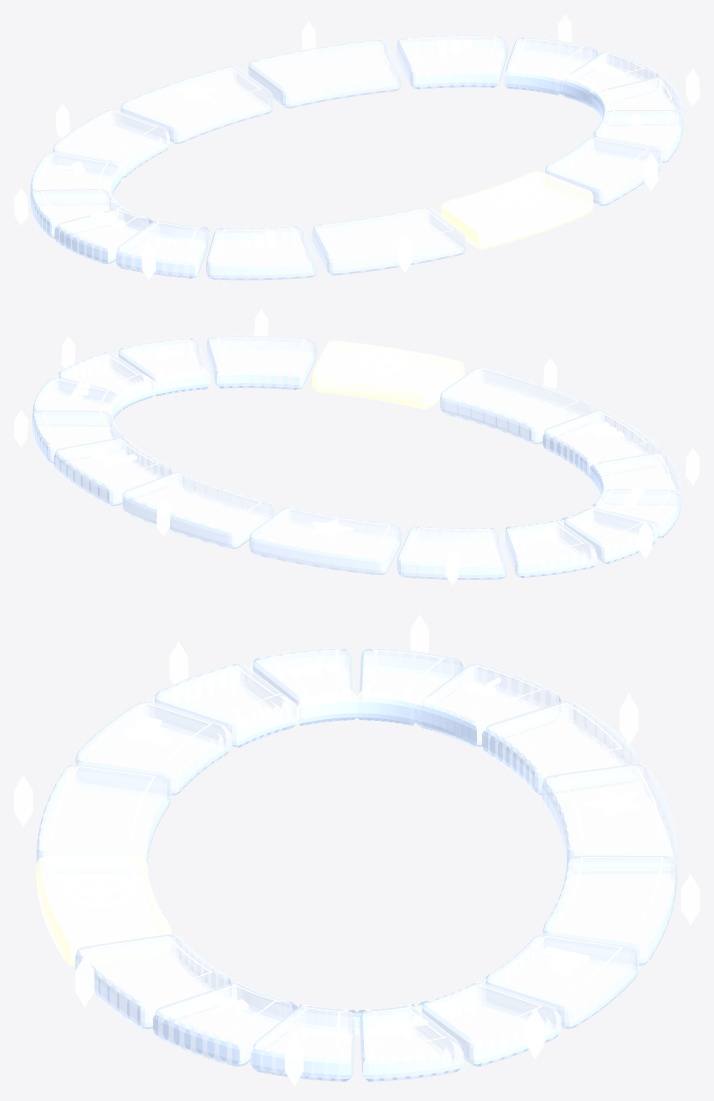
Rendered from sky-track.glb.
3 renders of one model, top to bottom at view 1: azimuth 30°, elevation 25°; view 2: azimuth 150°, elevation 25°; view 3: azimuth 270°, elevation 25°, orthographic. The views are drawn at different scales.
Visible parts, largest first — view 1: slab_07, slab_15, slab_08, slab_00, slab_14, slab_06, slab_09, slab_01, slab_05, slab_13, slab_02, slab_10 (+6 smaller); view 2: slab_15, slab_08, slab_07, slab_00, slab_01, slab_09, slab_06, slab_14, slab_10, slab_05, slab_02, slab_13 (+8 smaller); view 3: slab_07, slab_08, slab_00, slab_15, slab_09, slab_01, slab_14, slab_06, slab_13, slab_02, slab_10, slab_05 (+12 smaller).
Part boxes in pixels (x1=…): slab_07: x1=248, y1=39, x2=401, y2=108; slab_15: x1=312, y1=206, x2=465, y2=275; slab_08: x1=120, y1=65, x2=272, y2=144; slab_00: x1=441, y1=171, x2=593, y2=249; slab_14: x1=206, y1=226, x2=316, y2=280; slab_06: x1=397, y1=34, x2=507, y2=89; slab_09: x1=52, y1=108, x2=169, y2=178; slab_01: x1=544, y1=136, x2=661, y2=206; slab_05: x1=503, y1=36, x2=597, y2=95; slab_13: x1=116, y1=219, x2=210, y2=278; slab_02: x1=592, y1=109, x2=683, y2=163; slab_10: x1=30, y1=151, x2=122, y2=205; slab_15: x1=440, y1=366, x2=591, y2=444; slab_08: x1=249, y1=506, x2=401, y2=575; slab_07: x1=122, y1=471, x2=273, y2=549; slab_00: x1=312, y1=340, x2=464, y2=409; slab_01: x1=206, y1=335, x2=316, y2=390; slab_09: x1=397, y1=525, x2=507, y2=580; slab_06: x1=54, y1=437, x2=171, y2=506; slab_14: x1=542, y1=409, x2=659, y2=478; slab_10: x1=503, y1=519, x2=596, y2=578; slab_05: x1=32, y1=410, x2=123, y2=463; slab_02: x1=117, y1=337, x2=210, y2=396; slab_13: x1=589, y1=452, x2=681, y2=505; slab_07: x1=542, y1=855, x2=677, y2=966; slab_08: x1=542, y1=763, x2=677, y2=873; slab_00: x1=36, y1=855, x2=171, y2=966; slab_15: x1=36, y1=763, x2=171, y2=864; slab_09: x1=482, y1=700, x2=638, y2=796; slab_01: x1=75, y1=934, x2=231, y2=1029; slab_14: x1=75, y1=700, x2=231, y2=796; slab_06: x1=482, y1=933, x2=638, y2=1029; slab_13: x1=152, y1=663, x2=298, y2=748; slab_02: x1=153, y1=982, x2=297, y2=1067; slab_10: x1=415, y1=662, x2=560, y2=747; slab_05: x1=416, y1=982, x2=561, y2=1067.
Size of the model in its own units: 2.37 by 0.1476 by 1.6.
